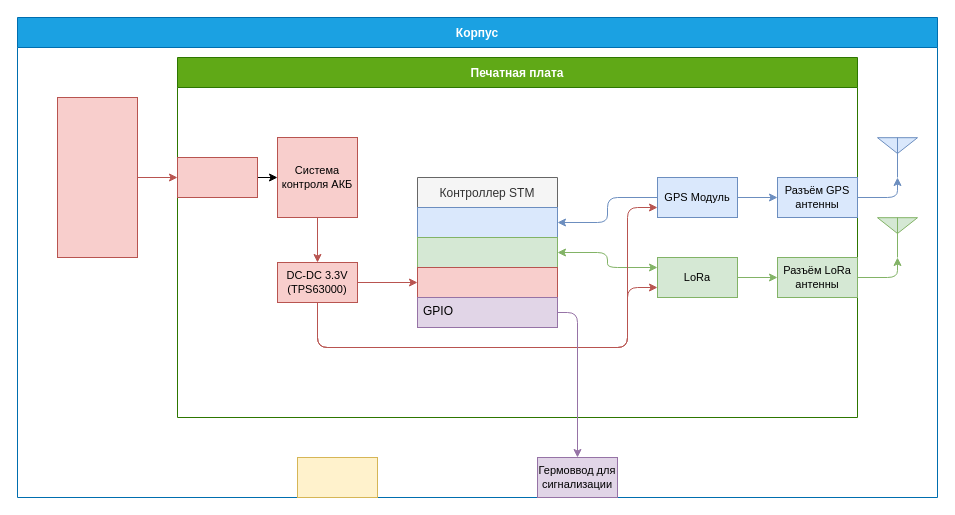
Some shapes in this 955 by 515 pixel diagram are drawn without their labels. Each missing label, with the box of its shape:
SPI: (416, 236, 558, 268)
UART: (416, 206, 558, 238)
АКБ (Li-SOCl2) 3V-3.6V: (56, 96, 138, 258)
Крепление для ремня: (296, 456, 378, 498)
Питание: (416, 266, 558, 298)
Разъём для АКБ: (176, 156, 258, 198)
